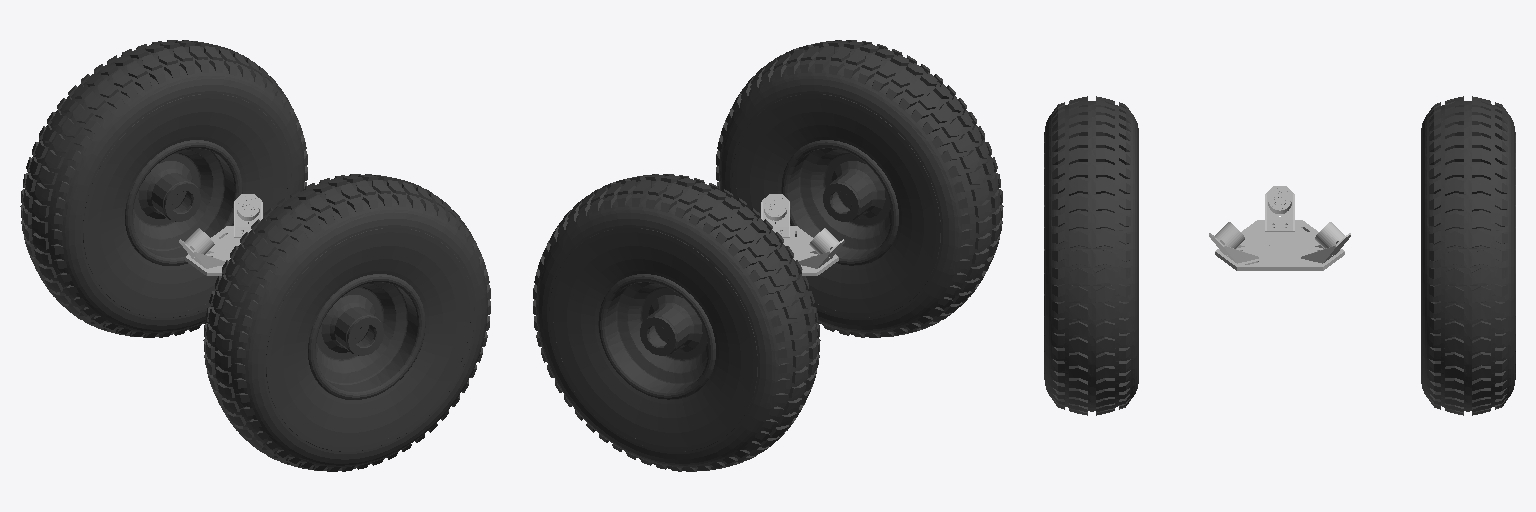
URDF robot description (Single_car):
<?xml version="1.0" encoding="utf-8"?>
<!-- This URDF was automatically created by SolidWorks to URDF Exporter! Originally created by Stephen Brawner (brawner@gmail.com) 
     Commit Version: 1.6.0-4-g7f85cfe  Build Version: 1.6.7995.38578
     For more information, please see http://wiki.ros.org/sw_urdf_exporter -->
<robot
  name="Single_car">
  <link name="base_footprint"/>

  <joint name="base_footprint_joint" type="fixed">
    <parent link="base_footprint"/>
    <child link="base_link"/>
    <origin xyz="0 0 0.30" rpy="0 0 0" />
  </joint>
  <link
    name="base_link">
    <inertial>
      <origin
        xyz="0.01595415454441 -0.00428440934451946 -0.060594660390702"
        rpy="0 0 0" />
      <mass
        value="9.99428388076213" />
      <inertia
        ixx="0.0804224811130862"
        ixy="-4.34304202046563E-06"
        ixz="-0.00699978069817061"
        iyy="0.0942327434628843"
        iyz="8.05726034778845E-05"
        izz="0.147279156366423" />
    </inertial>
    <visual>
      <origin
        xyz="0 0 0"
        rpy="0 0 0" />
      <geometry>
        <mesh
          filename="package://Single_car/meshes/base_link.STL" />
      </geometry>
      <material
        name="">
        <color
          rgba="0.752941176470588 0.752941176470588 0.752941176470588 1" />
      </material>
    </visual>
    <collision>
      <origin
        xyz="0 0 0"
        rpy="0 0 0" />
      <geometry>
        <mesh
          filename="package://Single_car/meshes/base_link.STL" />
      </geometry>
    </collision>
  </link>
  <link
    name="W_left_Link">
    <inertial>
      <origin
        xyz="1.33540139568566E-06 0.000599838192937296 9.07807475997169E-07"
        rpy="0 0 0" />
      <mass
        value="1.55682350721744" />
      <inertia
        ixx="0.0196621751127251"
        ixy="-6.31023613223425E-09"
        ixz="-9.90877429028932E-07"
        iyy="0.0351215520940711"
        iyz="1.39088607251656E-08"
        izz="0.0196629092148016" />
    </inertial>
    <visual>
      <origin
        xyz="0 0 0"
        rpy="0 0 0" />
      <geometry>
        <mesh
          filename="package://Single_car/meshes/W_left_Link.STL" />
      </geometry>
      <material
        name="">
        <color
          rgba="0.298039215686275 0.298039215686275 0.298039215686275 1" />
      </material>
    </visual>
    <collision>
      <origin
        xyz="0 0 0"
        rpy="0 0 0" />
      <geometry>
        <mesh
          filename="package://Single_car/meshes/W_left_Link.STL" />
      </geometry>
    </collision>
  </link>
  <joint
    name="W_left_joint"
    type="continuous">
    <origin
      xyz="0.0107232505478547 0.223090000000001 -0.104451002377612"
      rpy="0 0 0" />
    <parent
      link="base_link" />
    <child
      link="W_left_Link" />
    <axis
      xyz="0 1 0" />
  </joint>
  <link
    name="W_right_Link">
    <inertial>
      <origin
        xyz="1.33540104974017E-06 0.000599838192959279 -9.07807238721692E-07"
        rpy="0 0 0" />
      <mass
        value="1.55682391481743" />
      <inertia
        ixx="0.0196622664586568"
        ixy="-6.31023623414925E-09"
        ixz="9.90877429876778E-07"
        iyy="0.0351217717900393"
        iyz="-1.39088604539524E-08"
        izz="0.019663000560733" />
    </inertial>
    <visual>
      <origin
        xyz="0 0 0"
        rpy="0 0 0" />
      <geometry>
        <mesh
          filename="package://Single_car/meshes/W_right_Link.STL" />
      </geometry>
      <material
        name="">
        <color
          rgba="0.298039215686275 0.298039215686275 0.298039215686275 1" />
      </material>
    </visual>
    <collision>
      <origin
        xyz="0 0 0"
        rpy="0 0 0" />
      <geometry>
        <mesh
          filename="package://Single_car/meshes/W_right_Link.STL" />
      </geometry>
    </collision>
  </link>
  <joint
    name="W_right_joint"
    type="continuous">
    <origin
      xyz="0.0107232505478547 -0.22309 -0.104451002377612"
      rpy="3.14159265358979 0 0" />
    <parent
      link="base_link" />
    <child
      link="W_right_Link" />
    <axis
      xyz="0 1 0" />
  </joint>
</robot>

--- Render facts (derived) ---
The picture shows the robot from 3 angles, left to right: view 1: azimuth 30°, elevation 25°; view 2: azimuth 150°, elevation 25°; view 3: azimuth 270°, elevation 25°; orthographic projection.
Robot: Single_car — 4 links, 3 joints (2 continuous, 1 fixed); root link base_footprint; default pose: all joints at 0.
Visible links, largest first — view 1: W_right_Link, W_left_Link, base_link; view 2: W_left_Link, W_right_Link, base_link; view 3: W_left_Link, W_right_Link, base_link.
Link boxes in pixels (x1,y1,x2,y2): W_right_Link: [203, 174, 490, 471]; W_left_Link: [20, 40, 307, 337]; base_link: [179, 194, 262, 275]; W_left_Link: [533, 174, 820, 471]; W_right_Link: [716, 40, 1003, 337]; base_link: [761, 194, 844, 275]; W_left_Link: [1421, 96, 1515, 415]; W_right_Link: [1044, 96, 1138, 415]; base_link: [1209, 186, 1350, 270].
Bounding box of the posed robot: 0.3799 × 0.56 × 0.38 m (x, y, z).
Meshes: 3 distinct files referenced, 3 mesh visuals loaded (3 binary STL).
